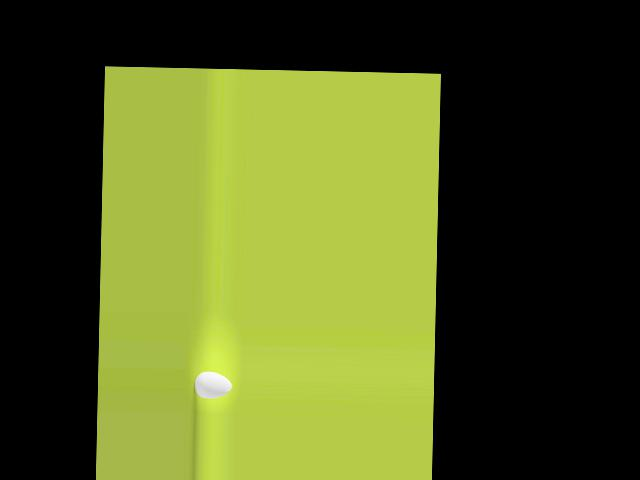egg: (194, 371, 232, 399)
